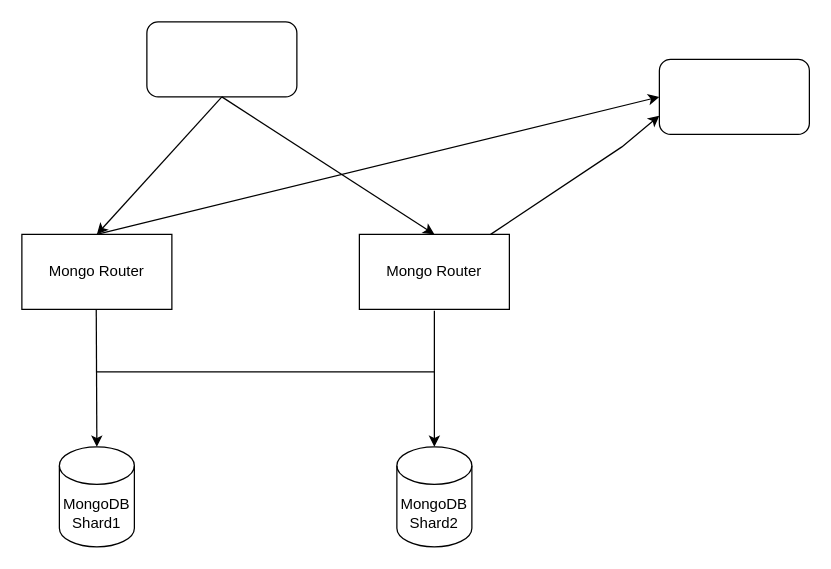
Some shapes in this 831 by 569 pixel diagram are drawn without their labels. Here are the shapes that lost their labels. From the top down, the centre of each, then its label:
At [221,59]: "pymongo-api".
At [733,96]: "Mongo Config Server Replica Set (3 pods)".
